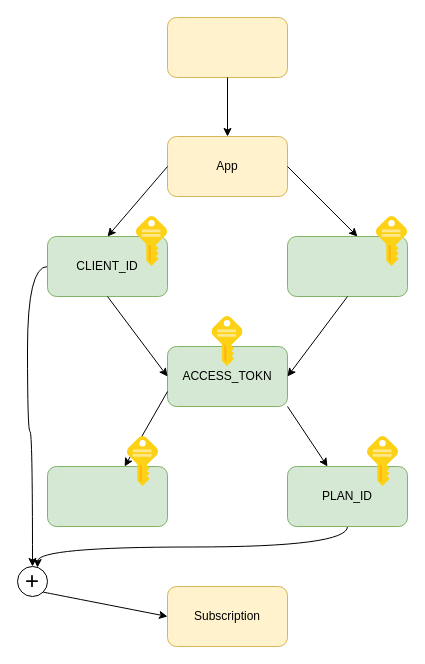
Some shapes in this 425 by 664 pixel diagram are drawn without their labels. Each missing label, with the box of its shape:
Business Account: (166, 16, 288, 78)
PRODUCT_ID: (46, 466, 168, 526)
SECRET_KEY: (286, 236, 408, 296)
